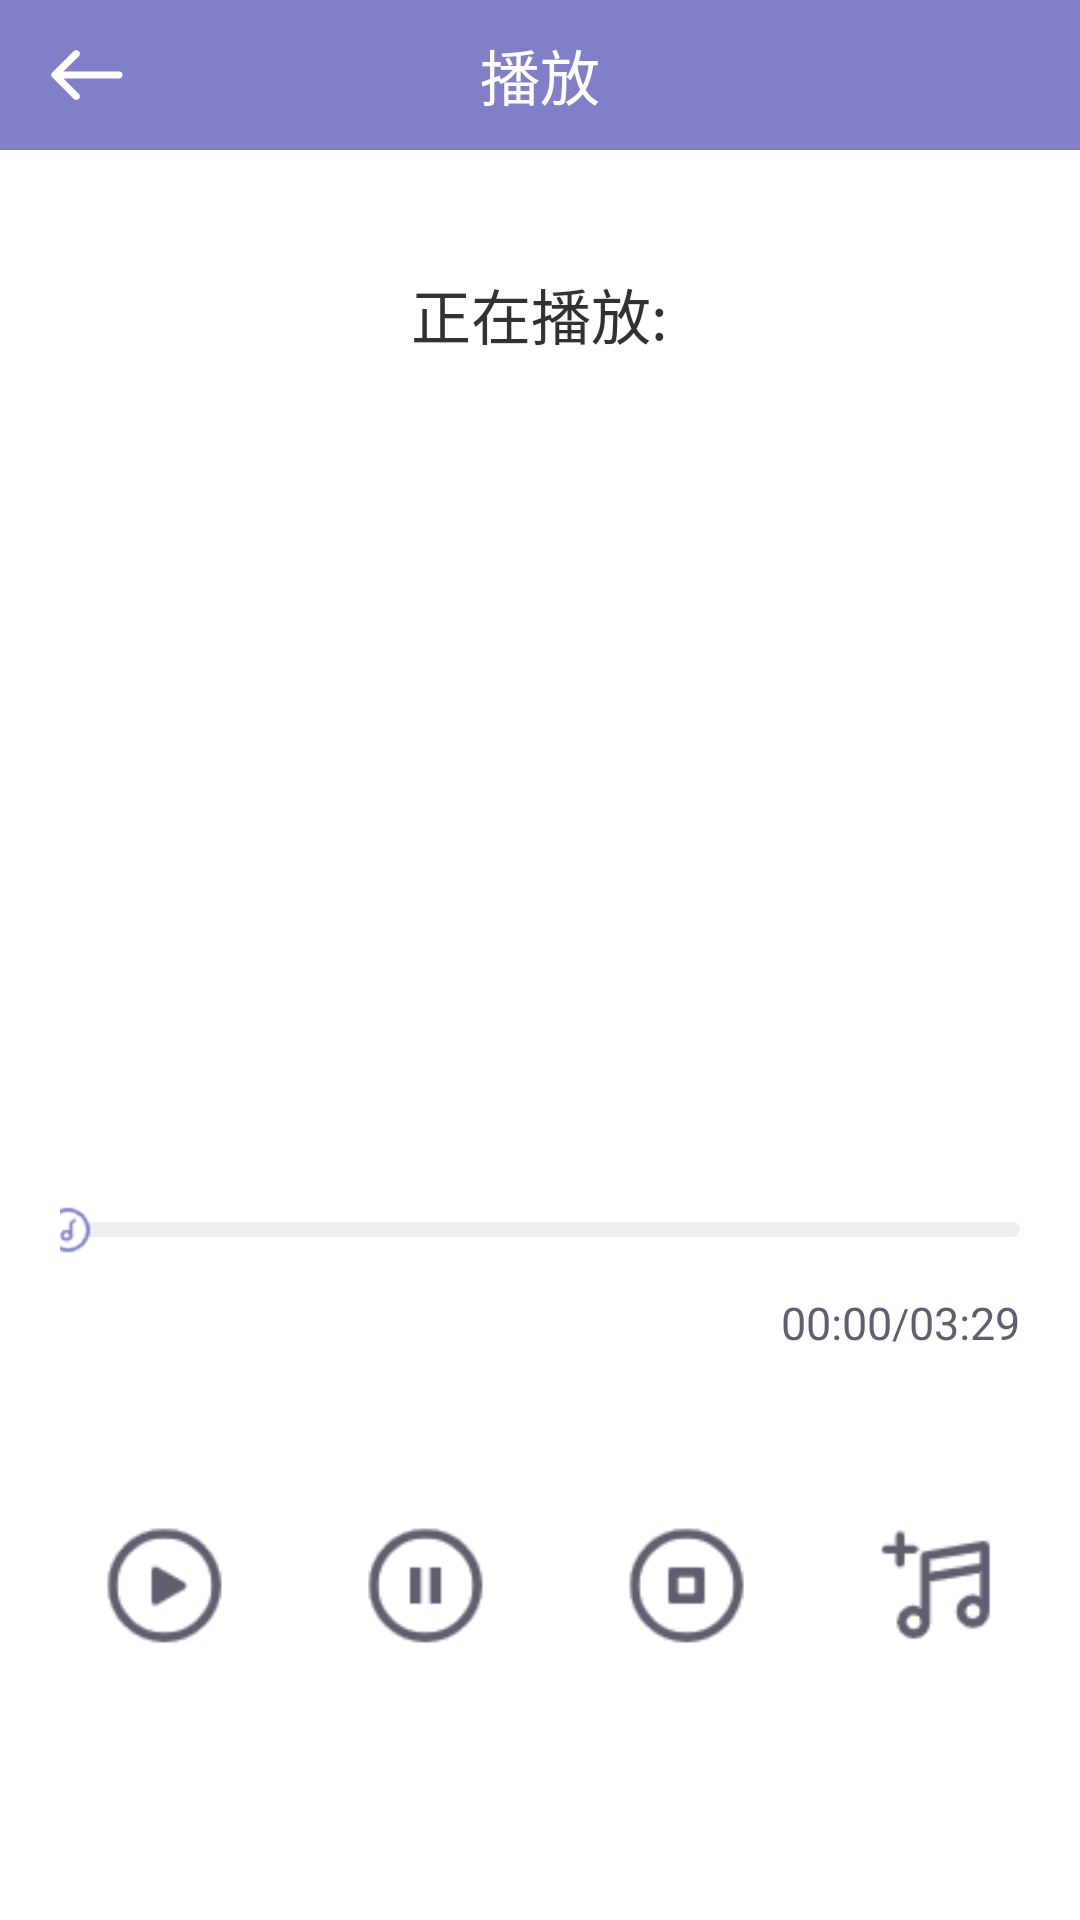

Icons on this 1080 × 1920 Android screen, each with the point to tap as (x,y):
back: (87,75)
play: (164,1585)
stopplay: (686,1585)
zuoqu: (935,1584)
